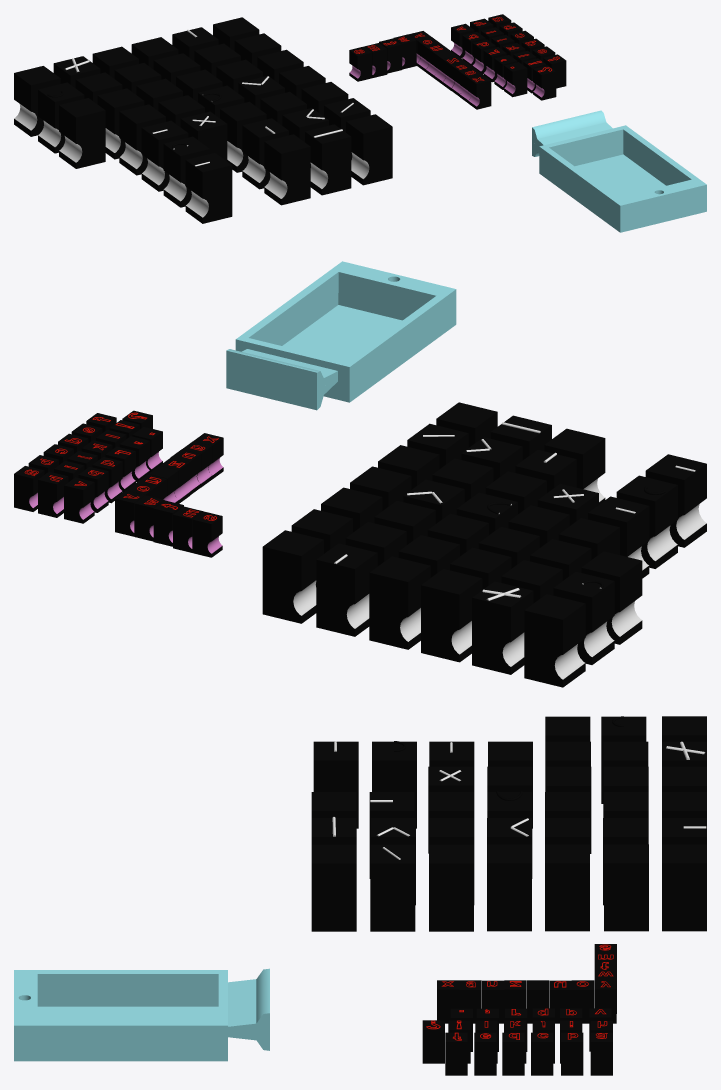
Rendered from EnglishLetters.fbx.
The picture shows the model from 3 angles, top to bottom: view 1: azimuth 30°, elevation 25°; view 2: azimuth 150°, elevation 25°; view 3: azimuth 270°, elevation 25°; orthographic projection. The views are drawn at different scales.
Parts seen in each view (by area): view 1: Box001, SpaceWord33, SpaceWord36, SpaceWord21, SpaceWord07, SpaceWord14, SpaceWord34, SpaceWord30, SpaceWord31, SpaceWord32, SpaceWord20, SpaceWord35 (+45 smaller); view 2: Box001, SpaceWord34, SpaceWord01, SpaceWord08, SpaceWord15, SpaceWord22, SpaceWord27, SpaceWord35, SpaceWord33, SpaceWord36, SpaceWord32, Box002 (+40 smaller); view 3: Box001, SpaceWord07, SpaceWord06, SpaceWord01, SpaceWord02, SpaceWord03, SpaceWord04, SpaceWord05, SpaceWord33, SpaceWord32, Box002, SpaceWord35 (+41 smaller).
Boxes of the visible parts, <box> form: Box001: <box>539,125,706,232</box>; SpaceWord33: <box>185,153,232,223</box>; SpaceWord36: <box>59,98,105,168</box>; SpaceWord21: <box>264,134,310,205</box>; SpaceWord07: <box>346,114,392,185</box>; SpaceWord14: <box>305,124,351,195</box>; SpaceWord34: <box>14,66,60,136</box>; SpaceWord30: <box>119,104,165,175</box>; SpaceWord31: <box>141,120,188,191</box>; SpaceWord32: <box>163,136,209,207</box>; SpaceWord20: <box>242,118,288,189</box>; SpaceWord35: <box>38,82,84,153</box>; Box001: <box>235,261,456,402</box>; SpaceWord34: <box>524,594,585,687</box>; SpaceWord01: <box>262,530,323,623</box>; SpaceWord08: <box>316,543,377,636</box>; SpaceWord15: <box>369,556,430,649</box>; SpaceWord22: <box>421,569,482,662</box>; SpaceWord27: <box>472,581,533,674</box>; SpaceWord35: <box>553,571,614,664</box>; SpaceWord33: <box>645,454,706,547</box>; SpaceWord36: <box>581,551,642,644</box>; SpaceWord32: <box>616,475,677,568</box>; Box002: <box>226,349,337,391</box>; Box001: <box>14,970,227,1061</box>; SpaceWord07: <box>311,844,356,931</box>; SpaceWord06: <box>370,844,415,931</box>; SpaceWord01: <box>662,844,706,931</box>; SpaceWord02: <box>604,844,648,931</box>; SpaceWord03: <box>545,844,589,931</box>; SpaceWord04: <box>487,844,531,931</box>; SpaceWord05: <box>429,844,473,931</box>; SpaceWord33: <box>313,741,358,828</box>; SpaceWord32: <box>372,741,416,828</box>; Box002: <box>228,968,269,1032</box>; SpaceWord35: <box>601,716,646,803</box>.
Bounding box in the file's own units: 119 × 13.32 × 120.
